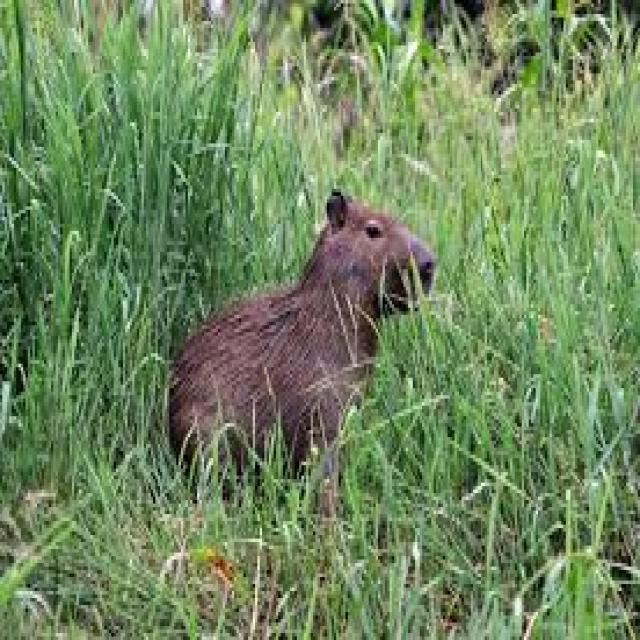capy: (163, 185, 435, 493)
